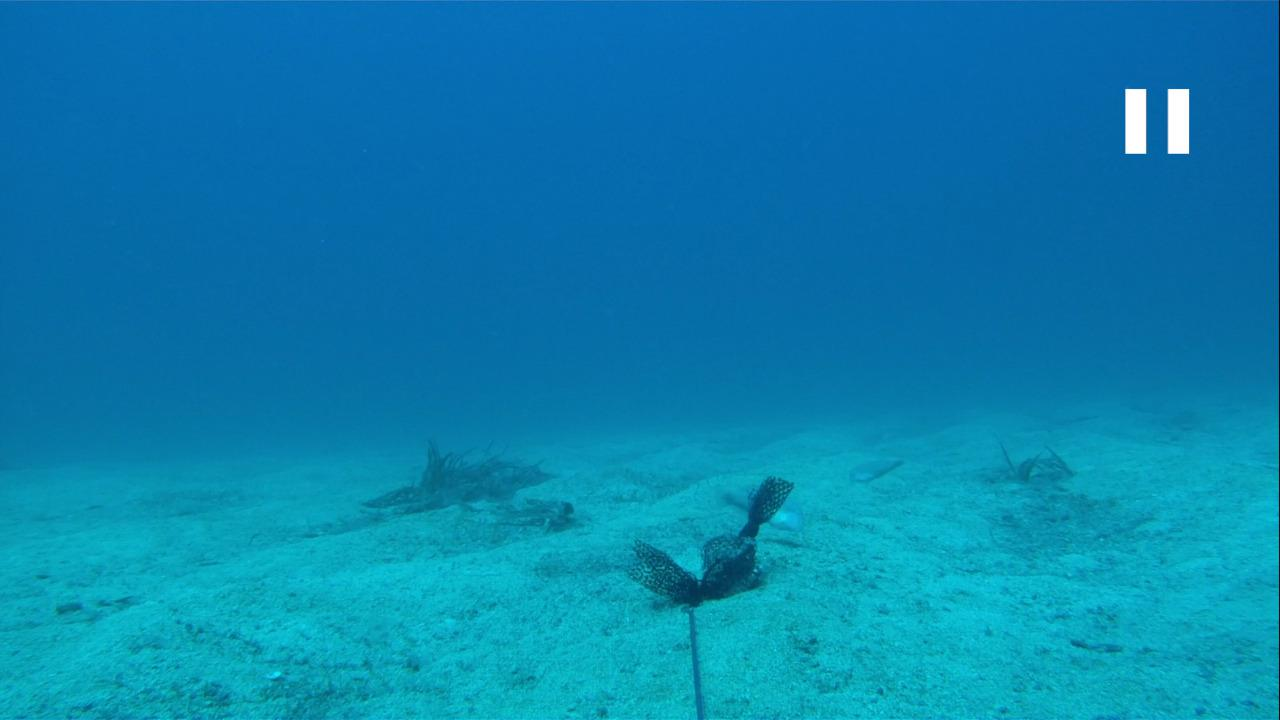dactylopterus: (445, 497, 575, 538)
raor: (840, 450, 906, 484)
